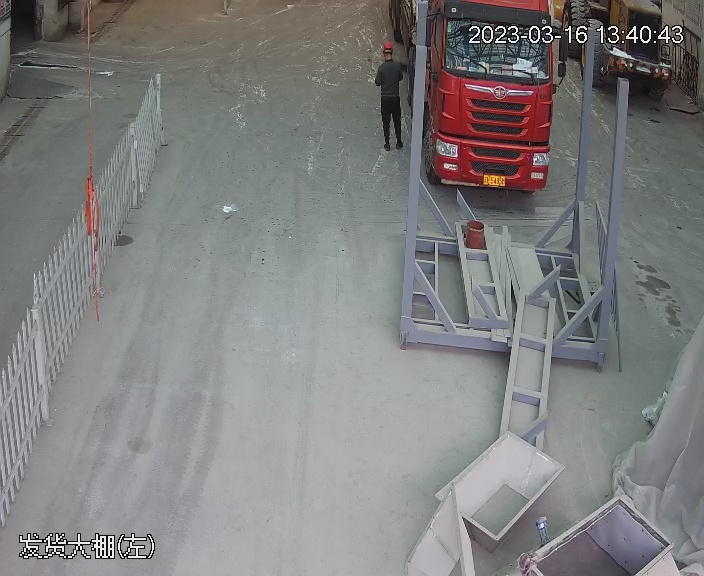head: (375, 40, 402, 74)
helmet: (382, 40, 395, 50)
people: (373, 42, 408, 151)
truck: (389, 1, 564, 193)
